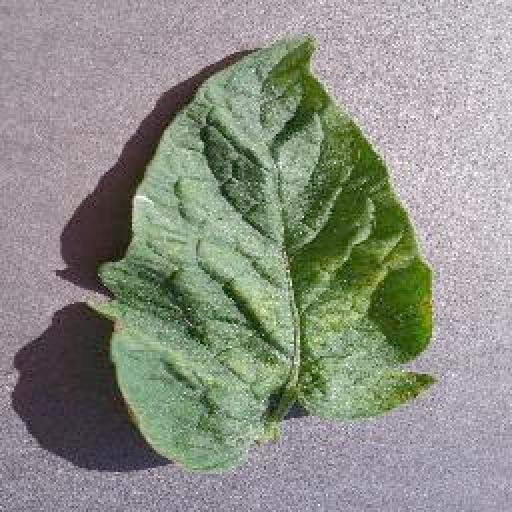disease_tomato: (108, 32, 438, 476)
